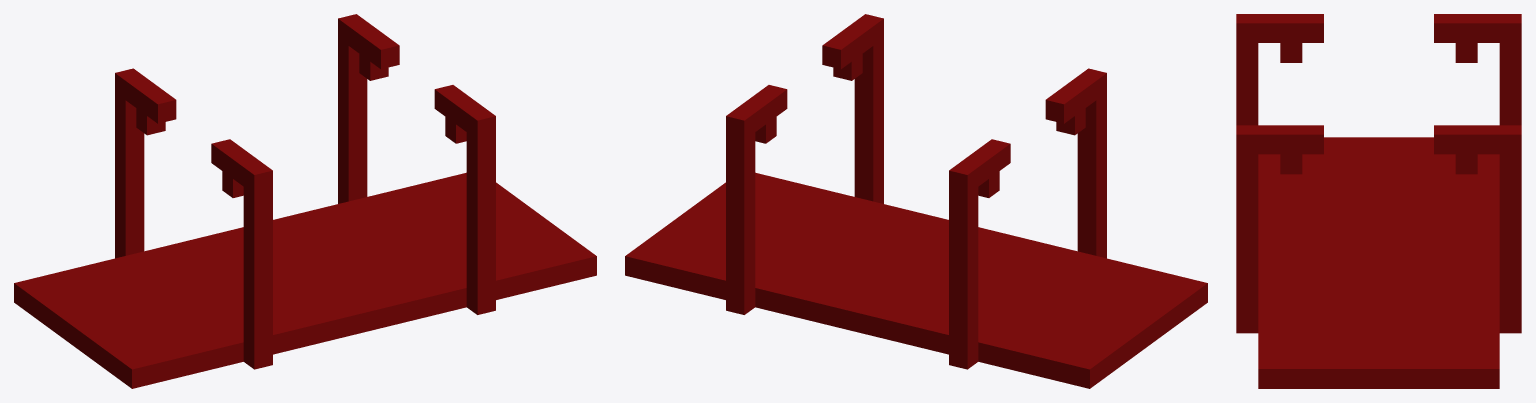
File: straßeLicht_kein_platz.obj
3 views of the same model, side by side, from view 1: azimuth 30°, elevation 25°; view 2: azimuth 150°, elevation 25°; view 3: azimuth 270°, elevation 25° (orthographic). The views are drawn at different scales.
Bounding box in the file's own units: 2.5 × 1 × 1.3.
1 material, 1 textured.
